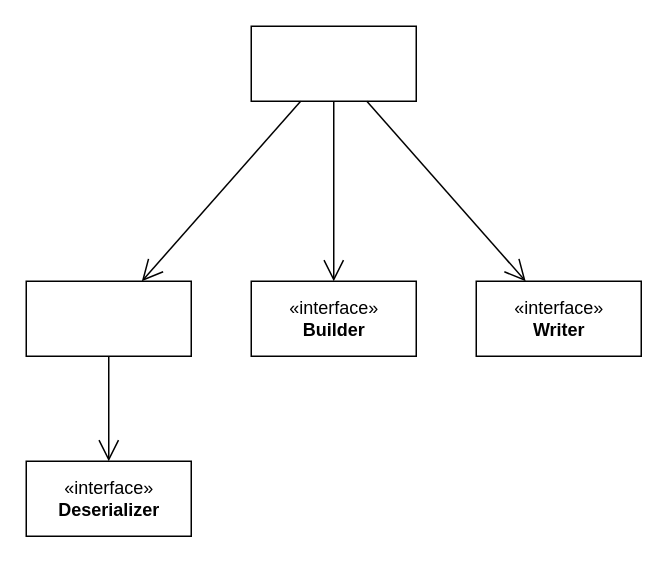
Some shapes in this 668 by 563 pixel diagram are drawn without their labels. The box of each missing label's shape, as (x1, y1, x2, y2) in pixels:
AppController: (250, 25, 416, 101)
«interface» Provider: (25, 280, 191, 356)
